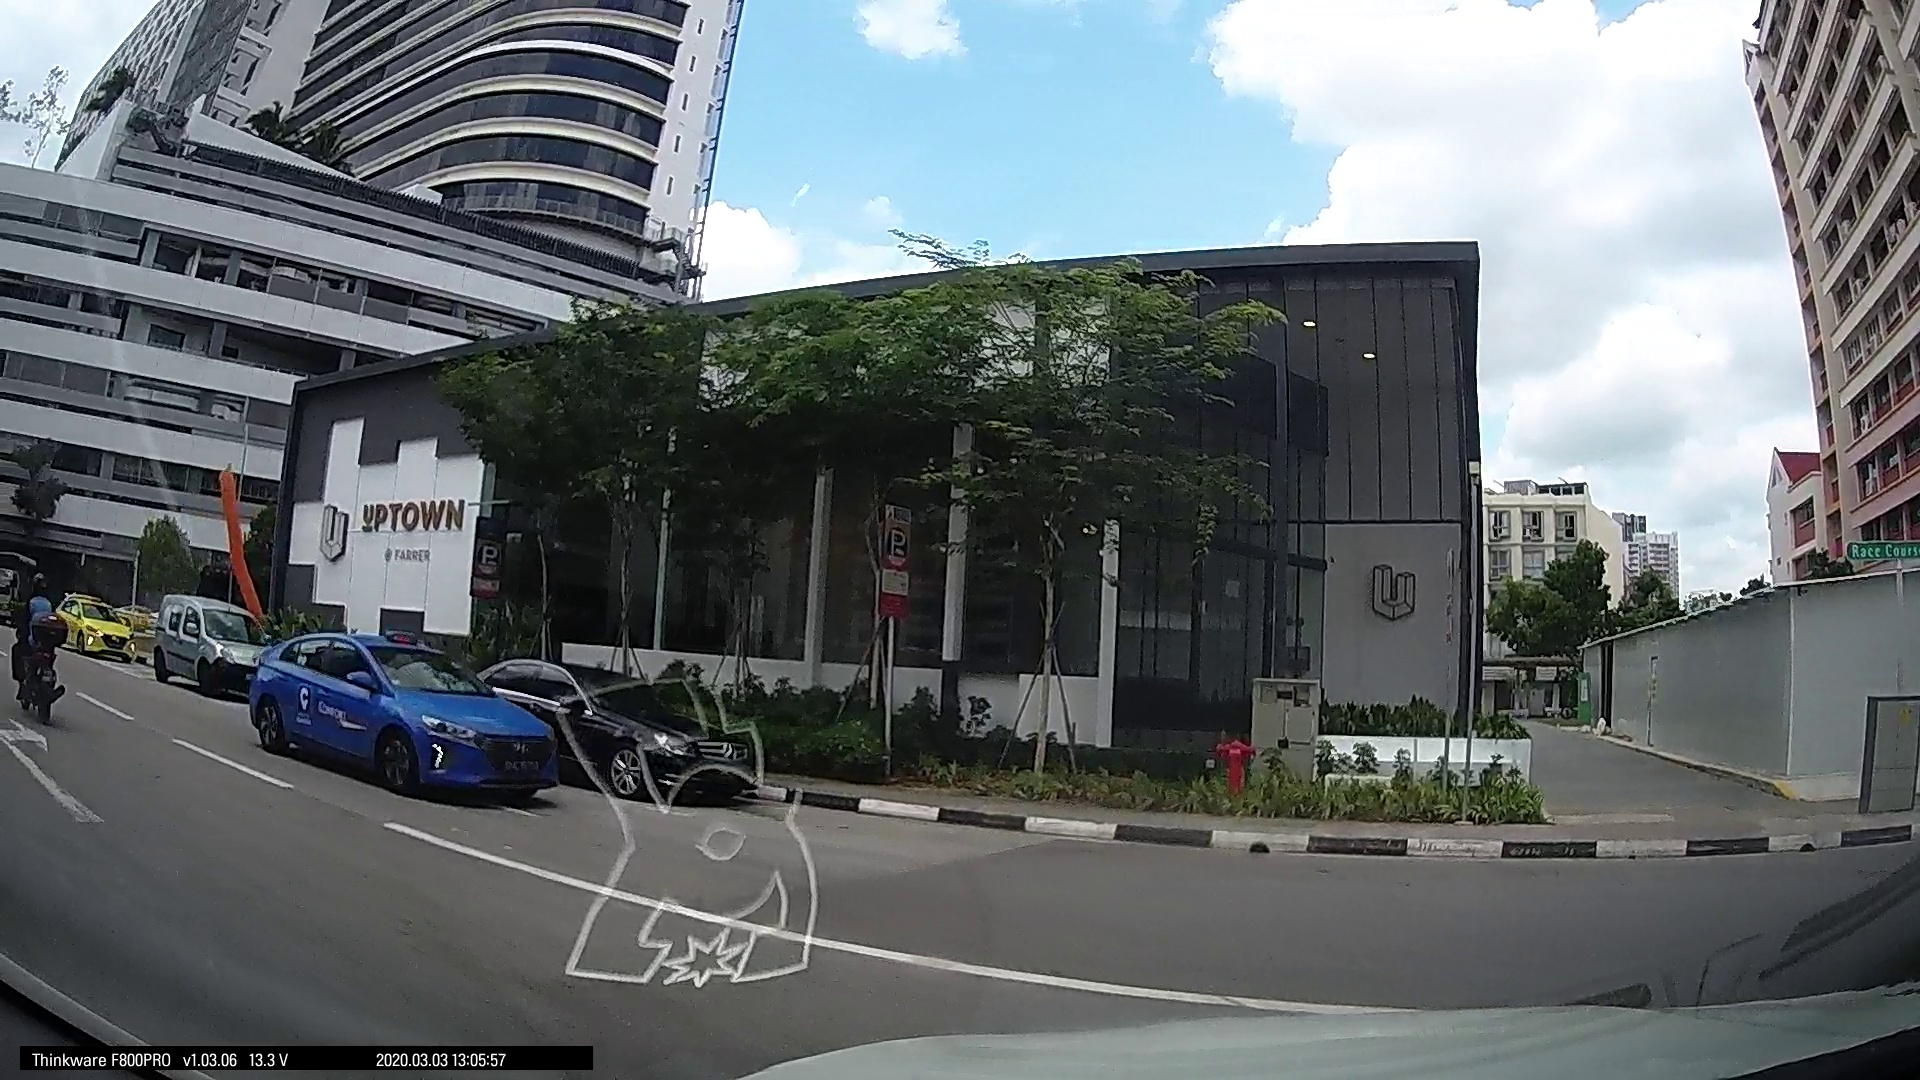Light Vehicle: (243, 632, 558, 804), (525, 658, 756, 814), (144, 589, 261, 694), (55, 591, 138, 662)
Motorcycle: (7, 579, 69, 727)
